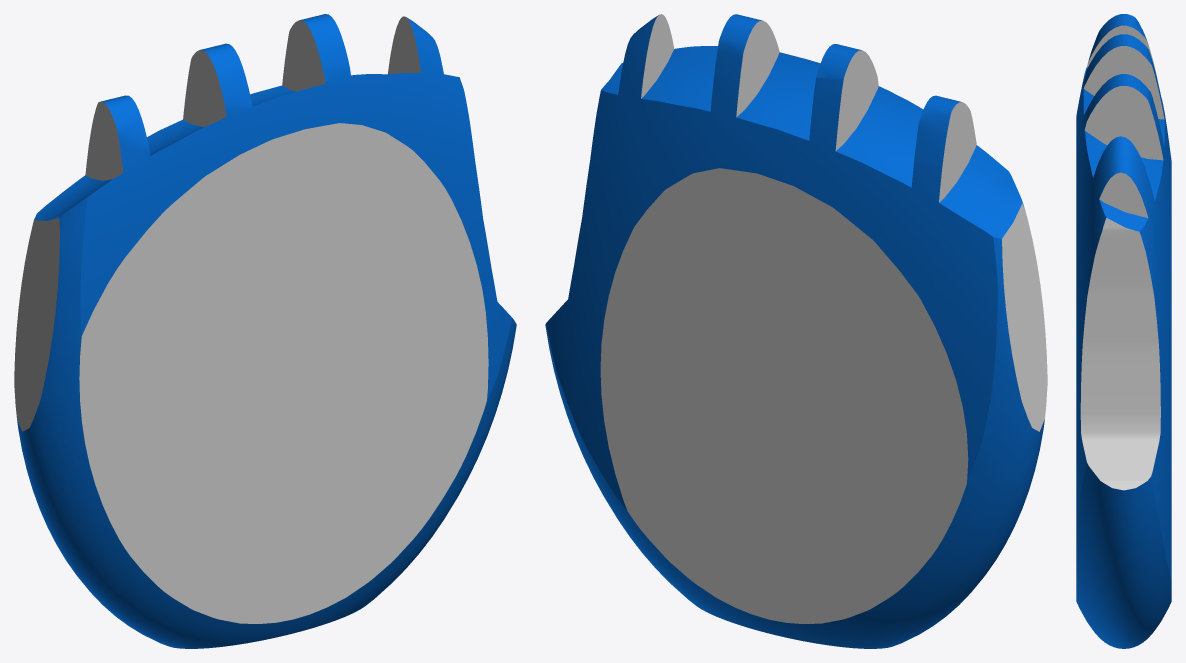
The model's file is round-palm.glb.
3 views of the same model, side by side, from view 1: azimuth 30°, elevation 25°; view 2: azimuth 150°, elevation 25°; view 3: azimuth 270°, elevation 25° (orthographic). The views are drawn at different scales.
Visible parts, largest first — view 1: EndPhalange; view 2: EndPhalange; view 3: EndPhalange.
Part boxes in pixels (box(x1,y1,x2,y2)): EndPhalange: box(14, 14, 516, 648); EndPhalange: box(545, 14, 1047, 648); EndPhalange: box(1076, 14, 1171, 648).
Bounding box in the file's own units: 1.65 × 1.89 × 0.299.
